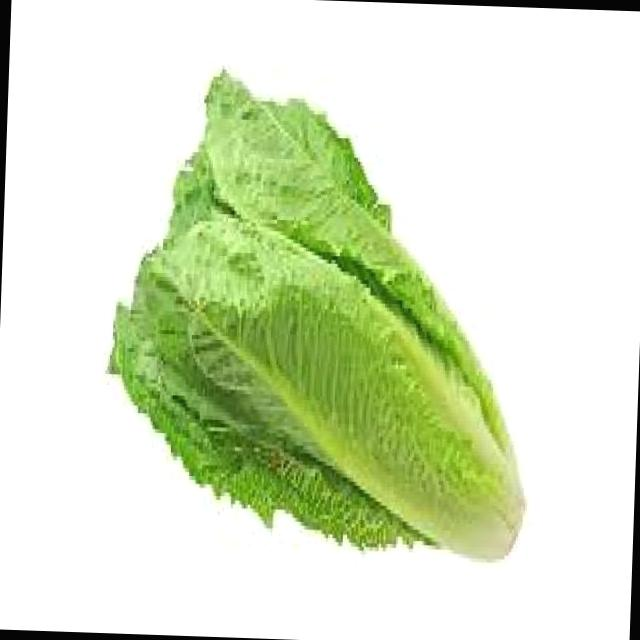Lettuce-Ready-to-Harvest: (112, 71, 522, 557)
